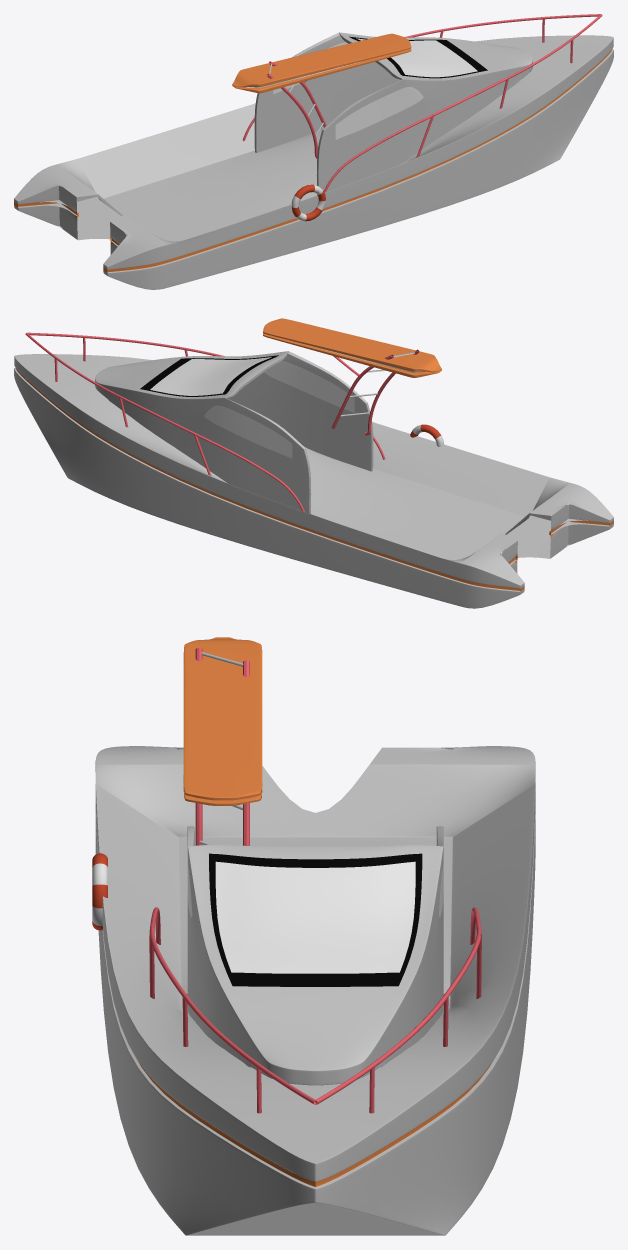
Rendered from Boat.glb.
The picture shows the model from 3 angles, top to bottom: view 1: azimuth 30°, elevation 25°; view 2: azimuth 150°, elevation 25°; view 3: azimuth 270°, elevation 25°; orthographic projection. The views are drawn at different scales.
Visible parts, largest first — view 1: boat; view 2: boat; view 3: boat.
Part boxes in pixels (bbox=[...]): boat: bbox=[14, 14, 613, 289]; boat: bbox=[14, 318, 613, 608]; boat: bbox=[92, 637, 535, 1235].
Size of the model in its own units: 12.6 by 3.59 by 4.37.
